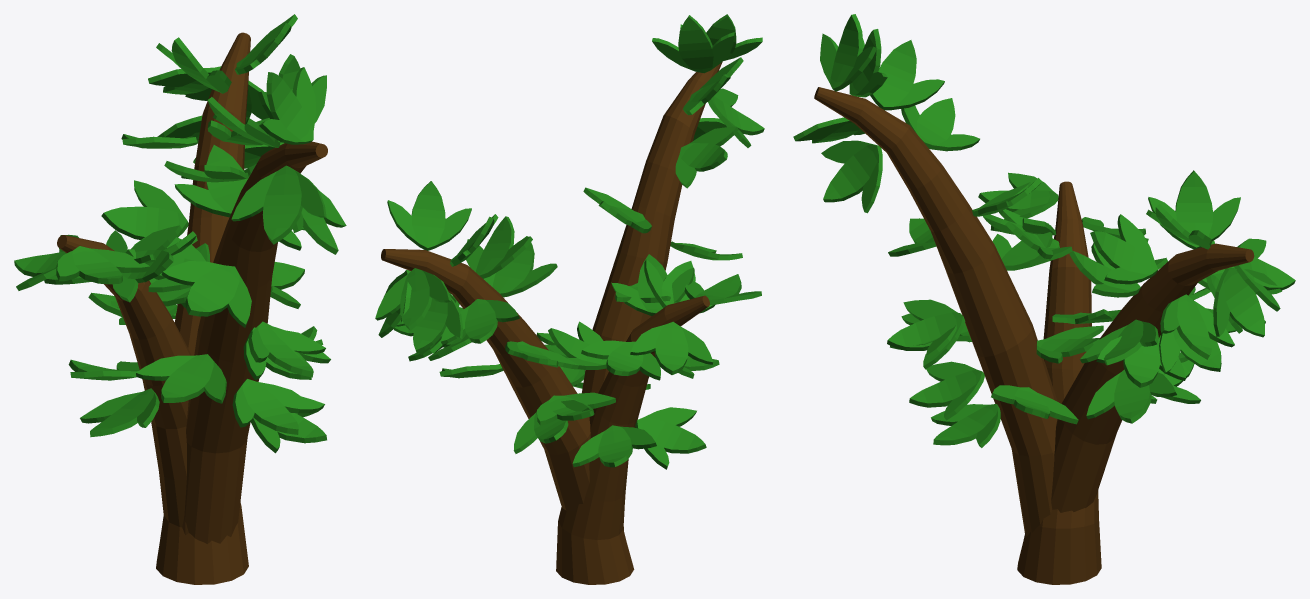
Rendered from Arbusto2Hoja2.fbx.
3 renders of one model, left to right at view 1: azimuth 30°, elevation 25°; view 2: azimuth 150°, elevation 25°; view 3: azimuth 270°, elevation 25°, orthographic. The views are drawn at different scales.
Parts seen in each view (by area): view 1: RamasArbusto2Hoja2; view 2: RamasArbusto2Hoja2; view 3: RamasArbusto2Hoja2.
Part boxes in pixels (x1,y1,x2,y2): RamasArbusto2Hoja2: (14,14,346,584); RamasArbusto2Hoja2: (375,14,764,584); RamasArbusto2Hoja2: (793,14,1295,584).
Size of the model in its own units: 84.39 by 138 by 118.
